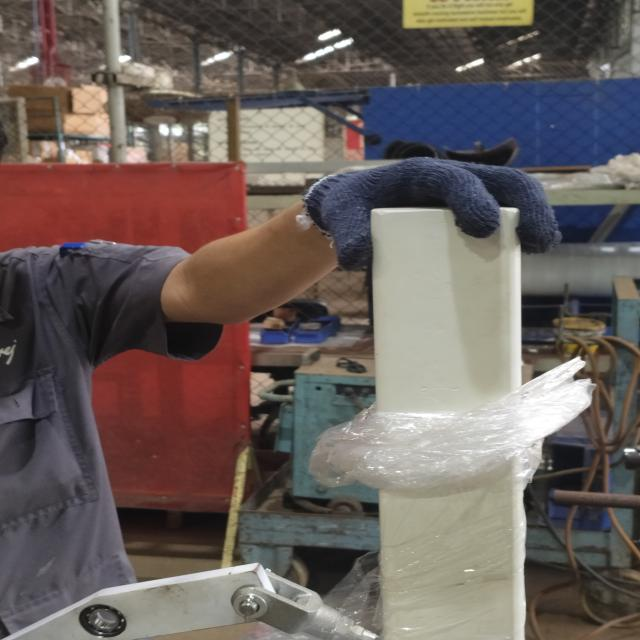Gloves-Detection: (308, 163, 565, 276)
